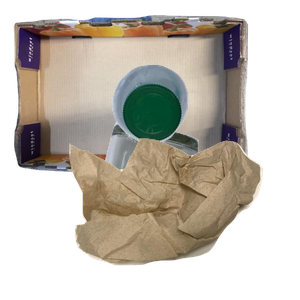cardboard: (11, 13, 251, 182)
glass: (86, 120, 277, 300)
plastic: (110, 62, 300, 198)
trash: (67, 136, 300, 300)
